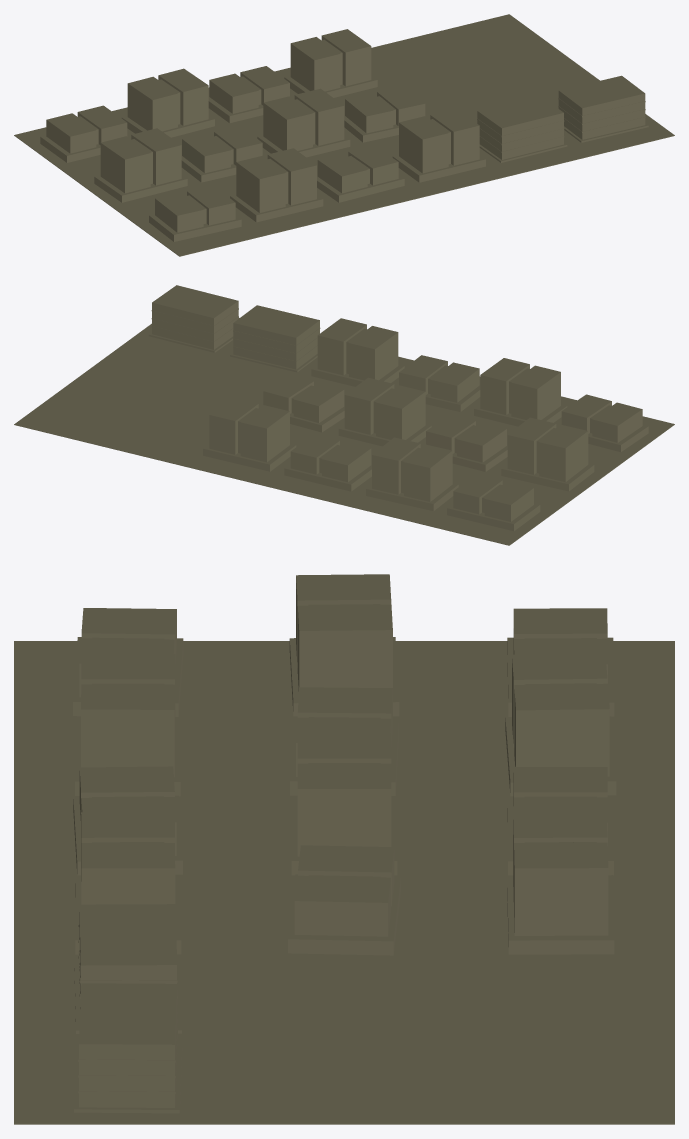
File: SM_AcopioMunicion_v4_Quemado_LOD1.fbx
The picture shows the model from 3 angles, top to bottom: view 1: azimuth 30°, elevation 25°; view 2: azimuth 150°, elevation 25°; view 3: azimuth 270°, elevation 25°; orthographic projection. The views are drawn at different scales.
Parts seen in each view (by area): view 1: SM_acopio_carga_v4_LOD1; view 2: SM_acopio_carga_v4_LOD1; view 3: SM_acopio_carga_v4_LOD1.
Boxes of the visible parts, left/top/right/bottom form: SM_acopio_carga_v4_LOD1: left=14, top=14, right=674, bottom=256; SM_acopio_carga_v4_LOD1: left=14, top=285, right=674, bottom=545; SM_acopio_carga_v4_LOD1: left=14, top=574, right=674, bottom=1124.
Bounding box in the file's own units: 9.5 × 0.76 × 5.5.
